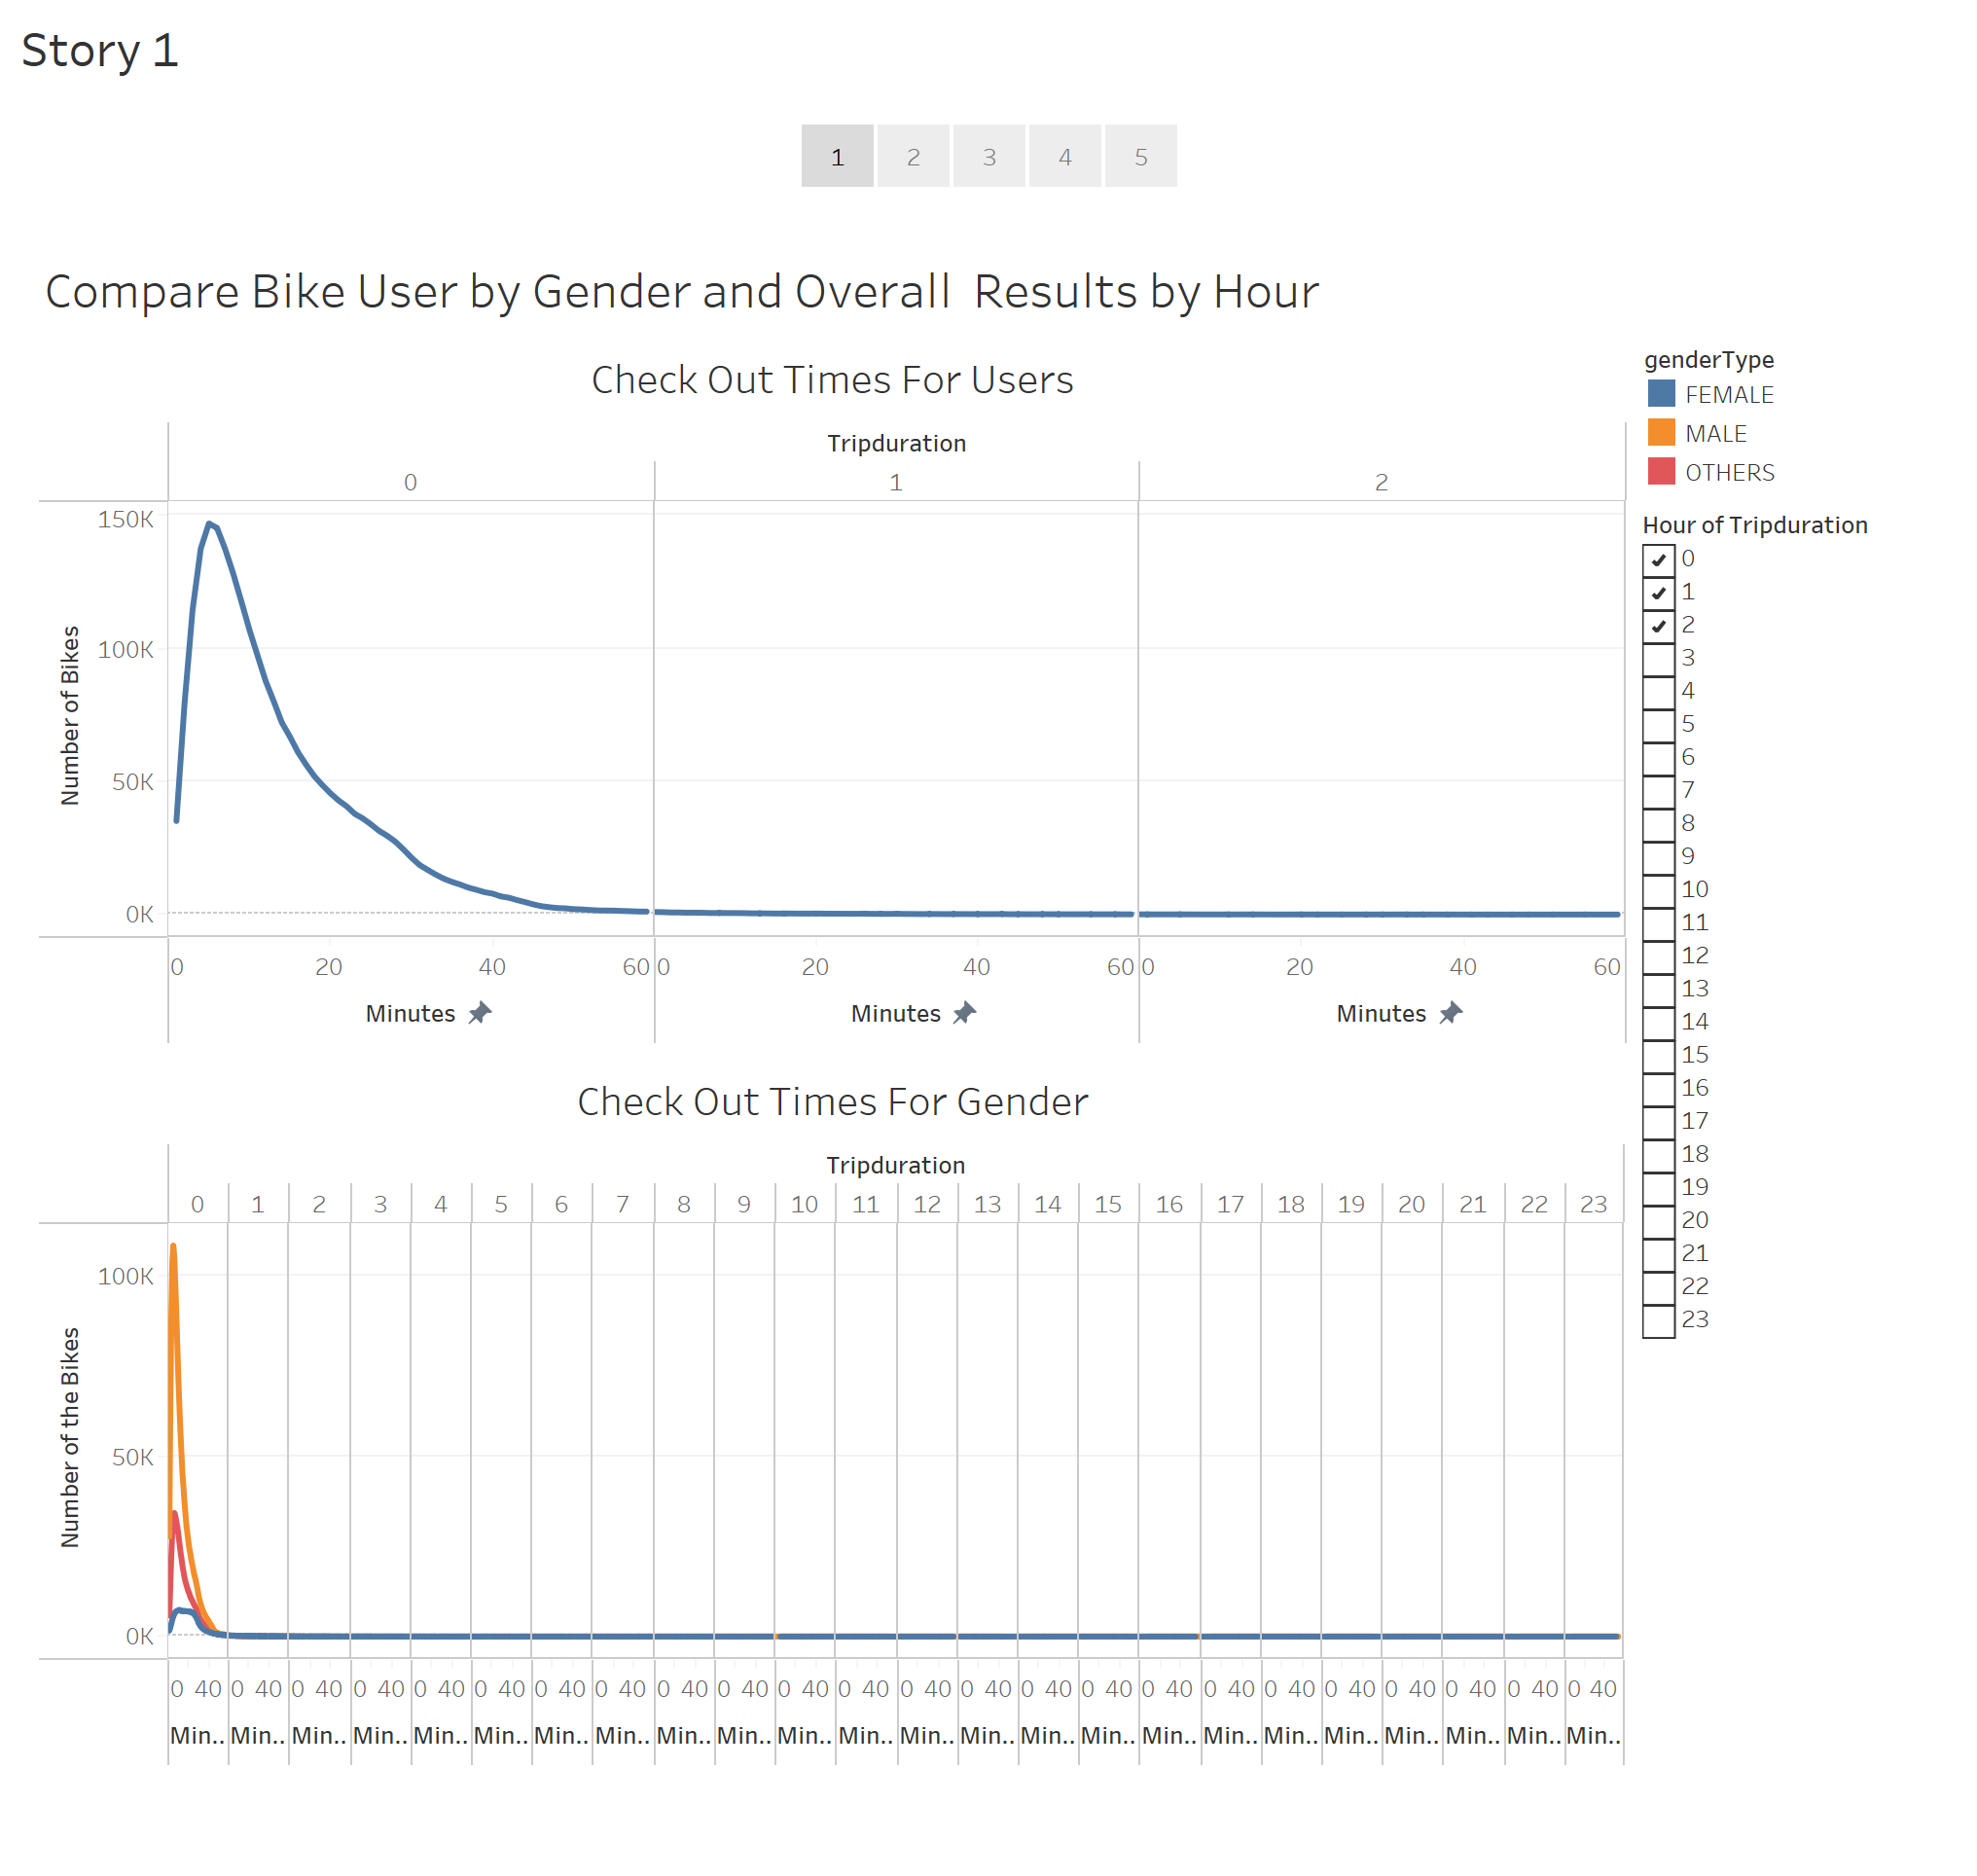

The page's visual inventory and layout, read from the dashboard file:
{"tool":"tableau","page":{"name":"Dashboard 2","canvas":[1000,800],"ordinal":0},"visuals":[{"type":"title","box":[8,8,984,42]},{"type":"worksheet","title":"Check Out Times for Users","mark":"Automatic","rows":["Bike_trip_data.csv_251ABFABDB6245768F89AC58238BABCF"],"cols":["tripduration","tripduration"],"box":[8,50,824,371]},{"type":"legend","title":"Check out times for gender","param":"[federated.0sh5qbe05khlgq1078ack1fe3zx7].[none:Calculation_1169528547869159427:n","box":[832,50,160,86]},{"type":"filter","title":"Check Out Times for Users","param":"[federated.0sh5qbe05khlgq1078ack1fe3zx7].[hr:tripduration:ok]","box":[832,136,160,507]},{"type":"worksheet","title":"Check out times for gender","mark":"Automatic","rows":["Bike_trip_data.csv_251ABFABDB6245768F89AC58238BABCF"],"cols":["tripduration","tripduration"],"box":[8,421,824,371]}]}

Visuals, with their boxes in screenshot pixels (x1, y1, x2, y2):
title: (x1=67, y1=103, x2=1976, y2=185)
"Check Out Times for Users" worksheet: (x1=67, y1=185, x2=1673, y2=909)
"Check out times for gender" legend: (x1=1673, y1=185, x2=1976, y2=352)
"Check Out Times for Users" filter: (x1=1673, y1=352, x2=1976, y2=1341)
"Check out times for gender" worksheet: (x1=67, y1=909, x2=1673, y2=1632)
